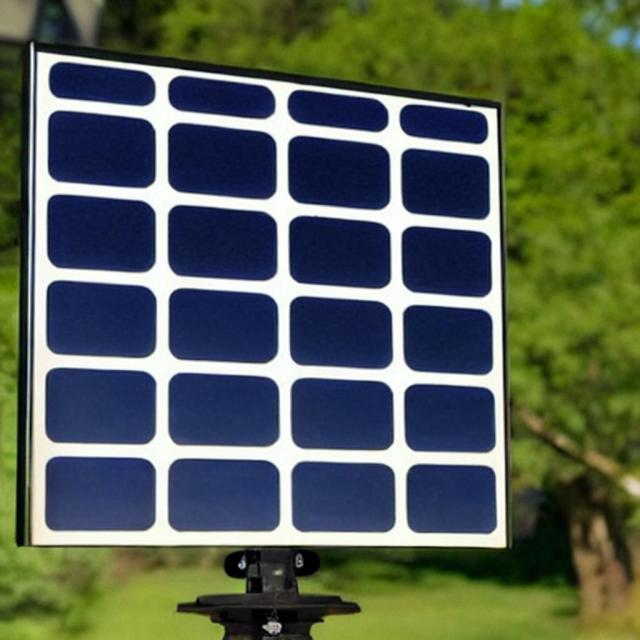no faulty: (30, 72, 503, 553)
